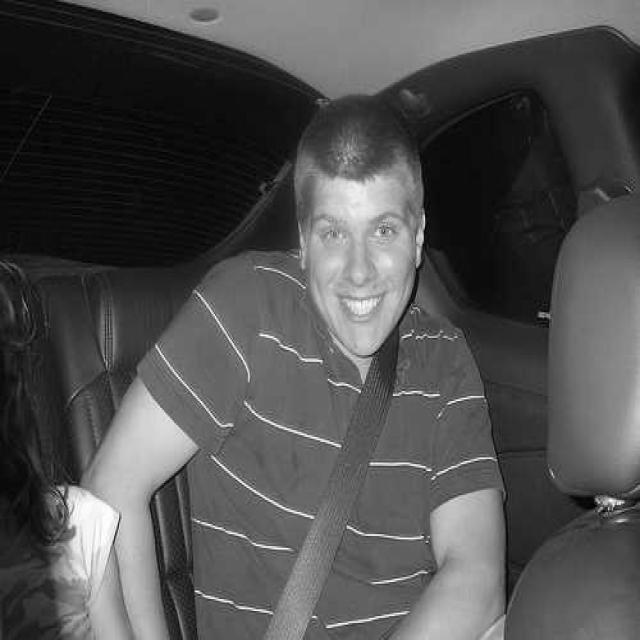Seatbelt: (264, 322, 402, 639)
